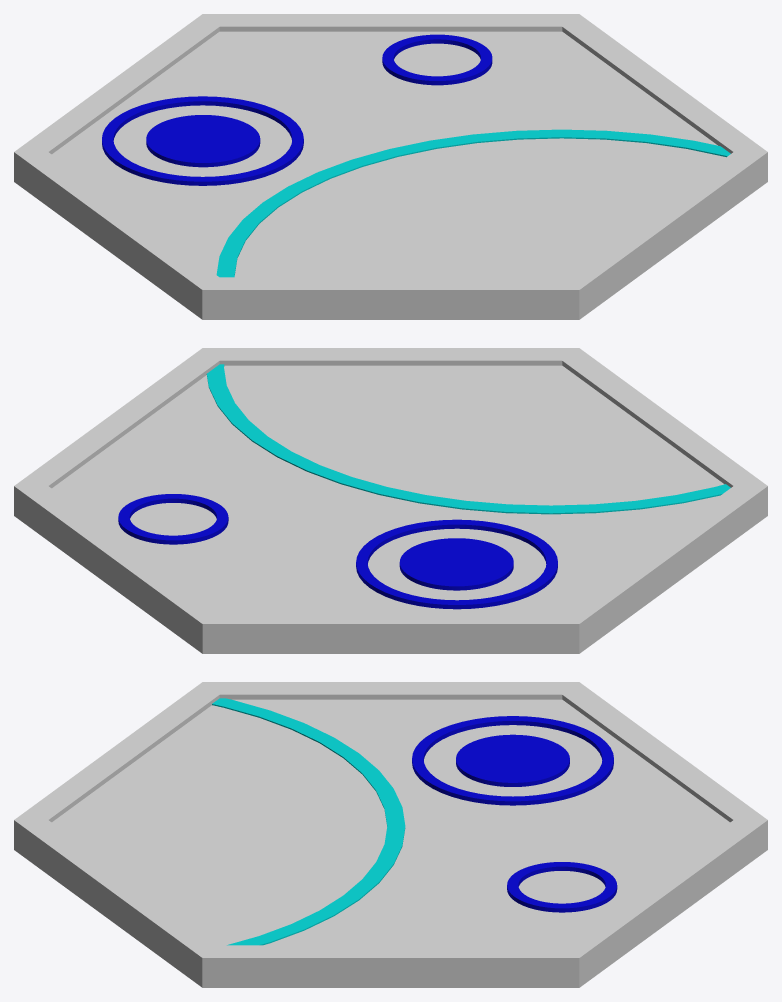
The model's file is placas_civi5.fbx.
3 renders of one model, top to bottom at view 1: azimuth 30°, elevation 25°; view 2: azimuth 150°, elevation 25°; view 3: azimuth 270°, elevation 25°, orthographic.
Visible parts, largest first — view 1: placa_base_low, placa5_low; view 2: placa_base_low, placa5_low; view 3: placa_base_low, placa5_low.
Boxes of the visible parts, bbox=[...] form: placa_base_low: bbox=[14, 14, 767, 319]; placa5_low: bbox=[102, 34, 730, 277]; placa_base_low: bbox=[14, 348, 767, 653]; placa5_low: bbox=[118, 364, 730, 609]; placa_base_low: bbox=[14, 682, 767, 987]; placa5_low: bbox=[212, 698, 617, 945].
Size of the model in its own units: 346 by 17.47 by 400.
